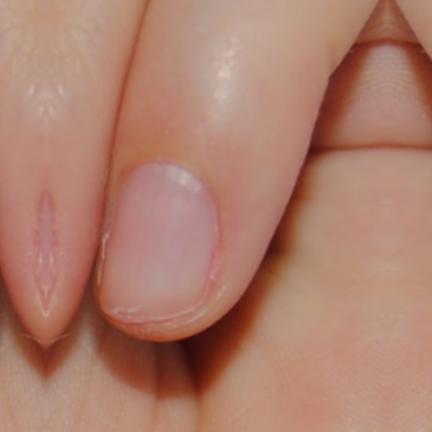Nail: (99, 162, 217, 323)
